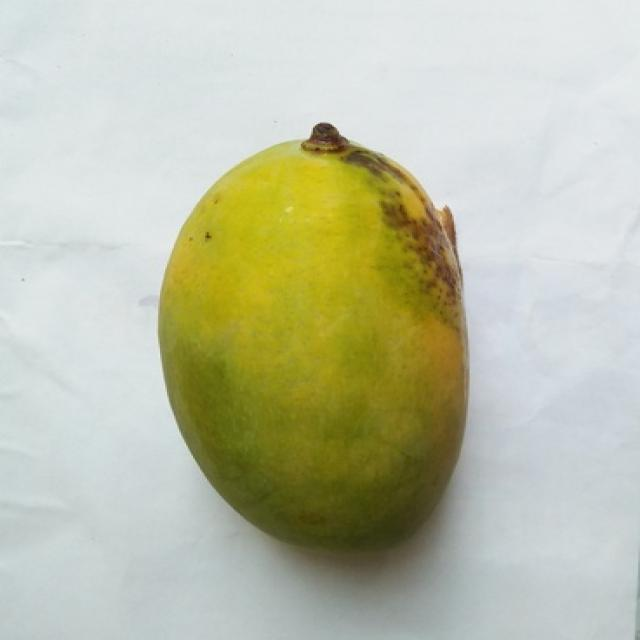Mango: (158, 123, 464, 550)
